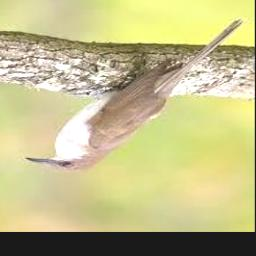Cuckoo: (25, 17, 247, 173)
